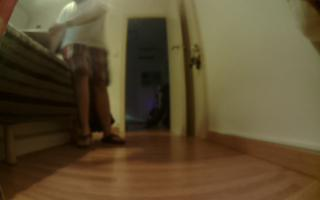person: (63, 1, 128, 152)
